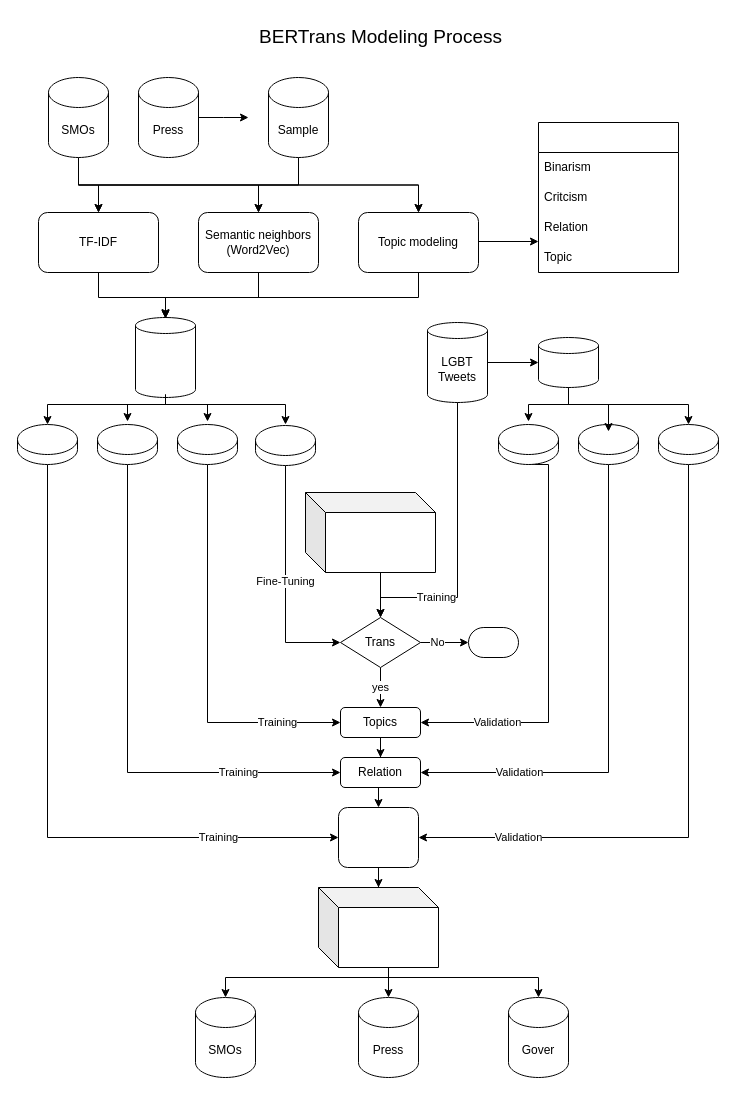
The diagram is 736 pixels wide and 1095 high, and some of its shapes have lost their labels. Here are the shapes that lost their labels. From the top down, the box of each, then its label:
(538, 122, 678, 272): Codebook
(134, 316, 196, 398): Synthetic phrases
(538, 336, 598, 388): Trans Tweets
(304, 492, 436, 572): LGBeTO detection_Model
(468, 626, 518, 658): End
(338, 806, 418, 868): Binarism + Criticism
(318, 886, 438, 968): BERTrans
